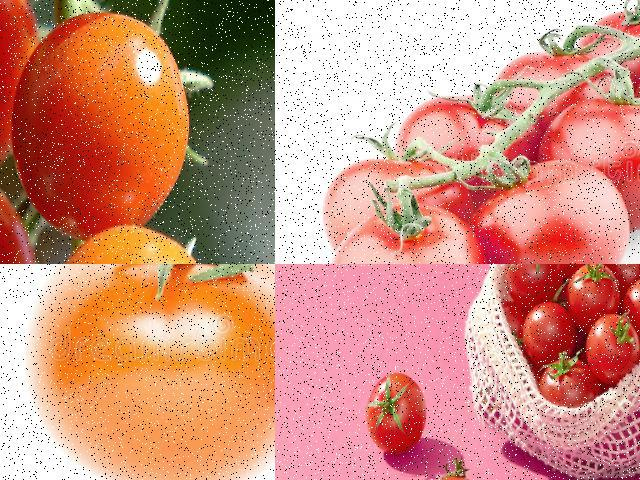tomato: (19, 264, 274, 479), (15, 10, 197, 234), (402, 84, 552, 210), (316, 145, 476, 263), (470, 158, 636, 263), (546, 92, 639, 243), (504, 45, 624, 141), (313, 202, 499, 263), (360, 366, 432, 459), (578, 11, 639, 88), (566, 264, 626, 336), (519, 300, 576, 368), (587, 314, 639, 377), (536, 361, 596, 408), (502, 264, 561, 307), (625, 283, 639, 326)
